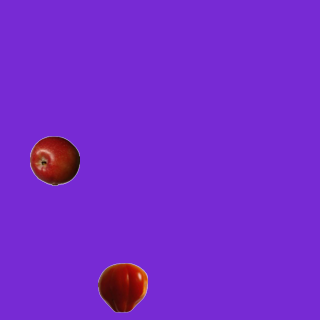Apple Braeburn: (29, 135, 79, 185)
Tomato 1: (97, 262, 147, 312)
